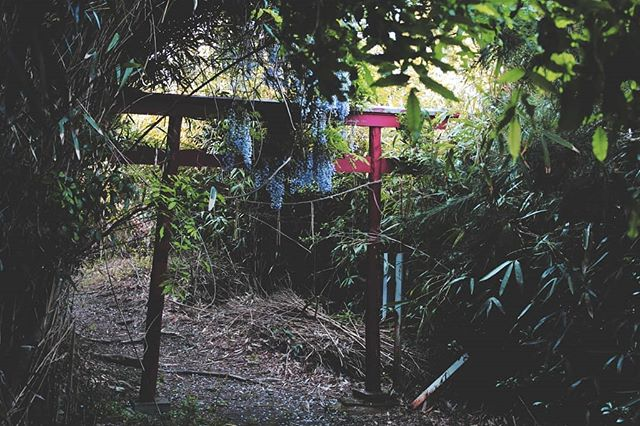flowers: (188, 24, 352, 228)
vegetation: (1, 1, 640, 426)
